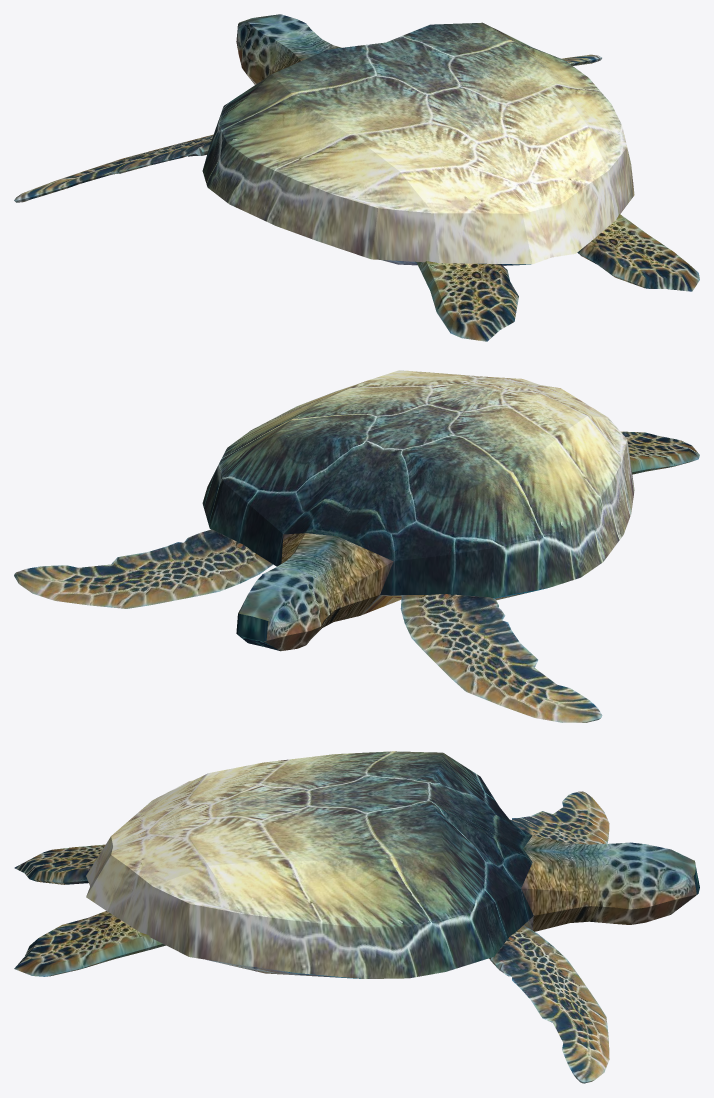
The model's file is chelonia-mydas.glb.
3 renders of one model, top to bottom at view 1: azimuth 30°, elevation 25°; view 2: azimuth 150°, elevation 25°; view 3: azimuth 270°, elevation 25°, orthographic.
Visible parts, largest first — view 1: chelonia_mydas; view 2: chelonia_mydas; view 3: chelonia_mydas.
Boxes of the visible parts, <box> form: chelonia_mydas: <box>14,14,699,341</box>; chelonia_mydas: <box>14,370,699,722</box>; chelonia_mydas: <box>14,751,699,1083</box>.
Bounding box in the file's own units: 1.58 × 0.3866 × 1.58.
Materials: 3 (3 with a texture image).
